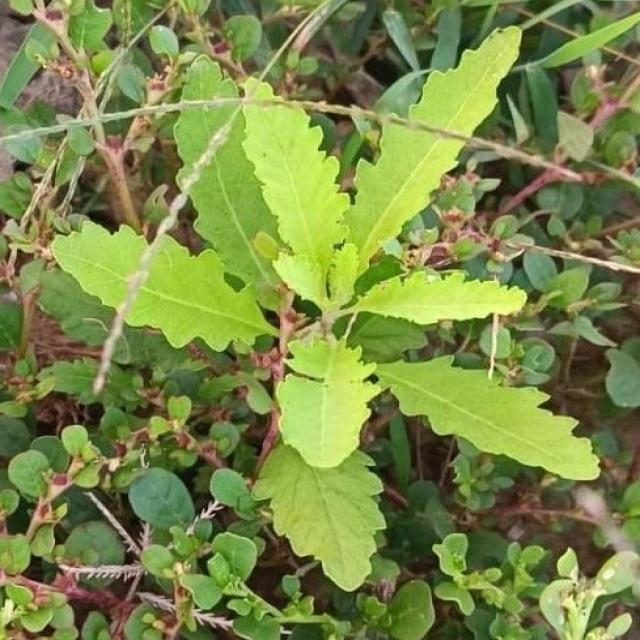weed: (52, 222, 147, 308)
